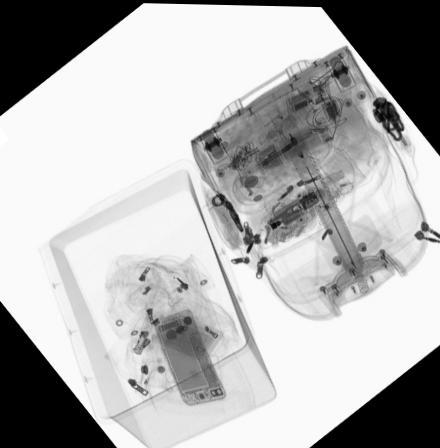Lighter: (129, 309, 160, 356)
